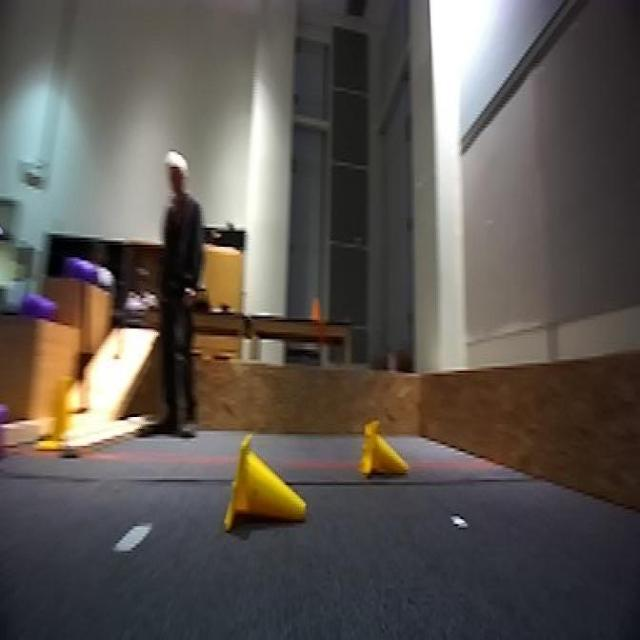frc_cone: (228, 436, 306, 522), (359, 417, 411, 483), (42, 373, 74, 451)
frc_cube: (6, 281, 60, 322), (64, 255, 115, 296)
